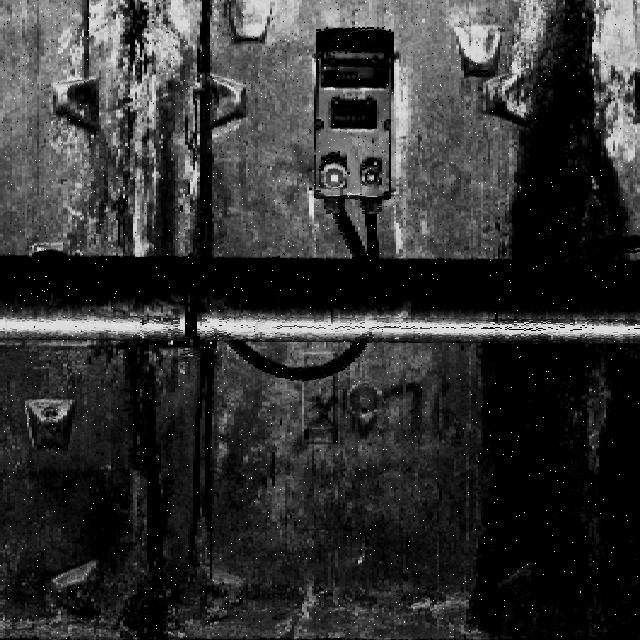leakage: (469, 5, 635, 640), (74, 1, 242, 264), (103, 342, 230, 586)
